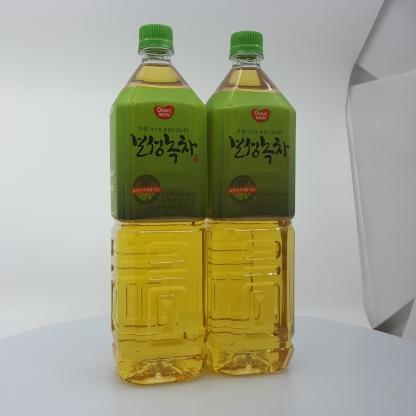------1500ML: (109, 24, 208, 385), (203, 31, 296, 376)
